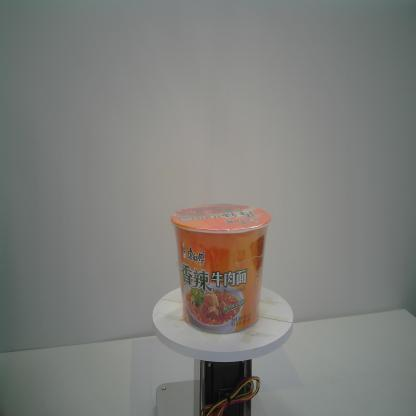Instant Noodles: (168, 202, 273, 336)
